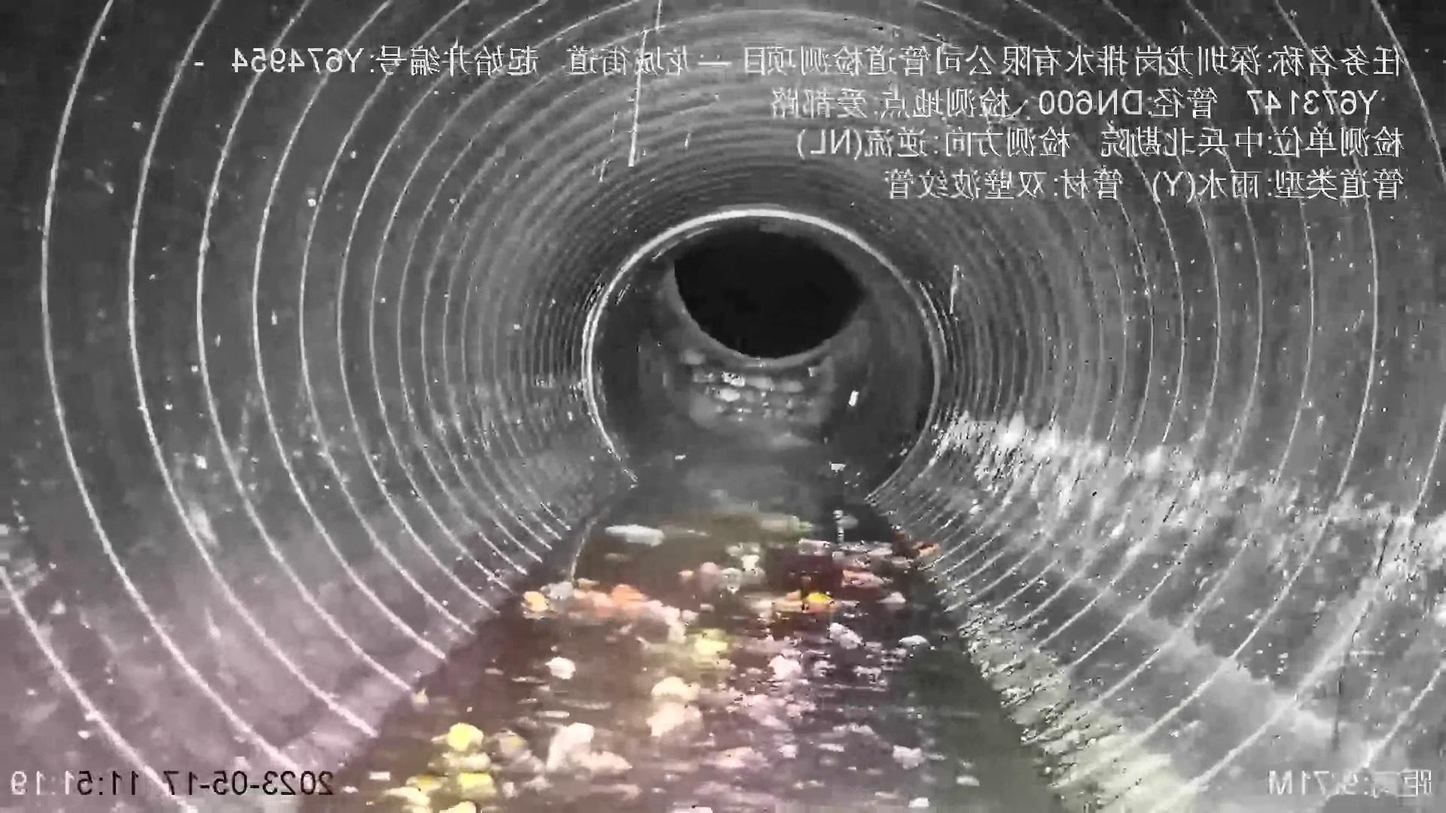CJ: (313, 462, 1059, 812)
CKTJ: (573, 204, 950, 508)
